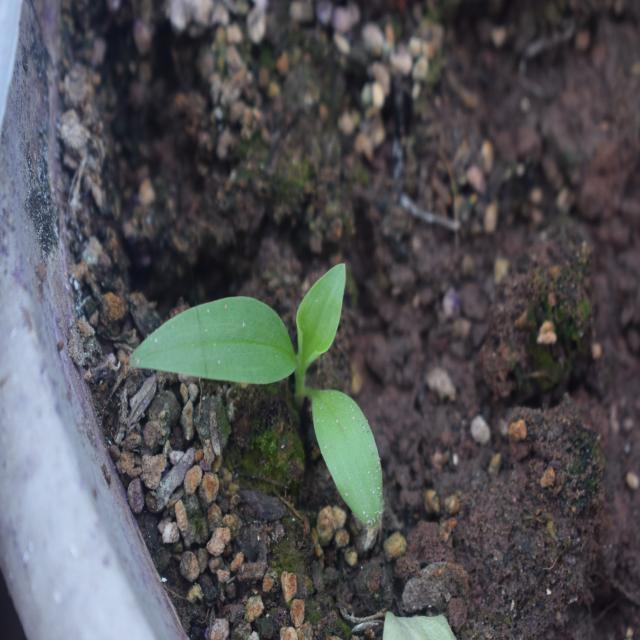Common Dayflower: (135, 259, 398, 511)
